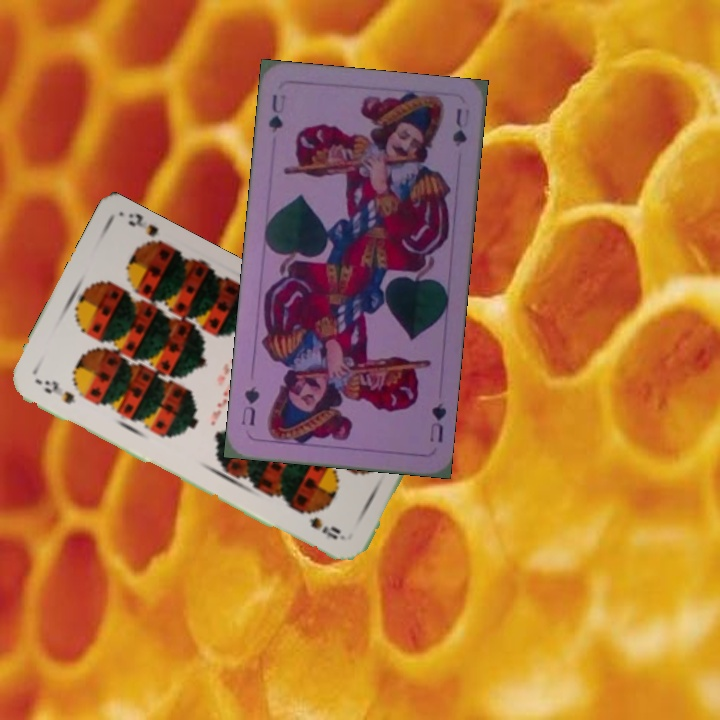GU: (264, 90, 289, 135), (425, 399, 449, 445)
S9: (32, 374, 79, 407)
